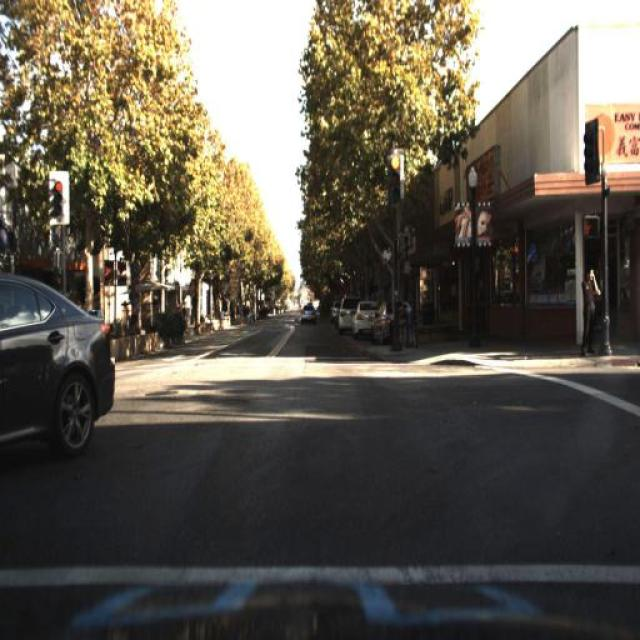car: (0, 265, 116, 467), (371, 298, 413, 347), (350, 297, 380, 347), (334, 288, 360, 339), (353, 304, 377, 334), (298, 299, 318, 332), (300, 300, 314, 329), (339, 294, 350, 330)
trafficLight: (580, 265, 605, 365), (578, 260, 600, 360), (386, 297, 406, 362)
trafficLight-RedLeft: (386, 150, 402, 205), (50, 172, 66, 224)
